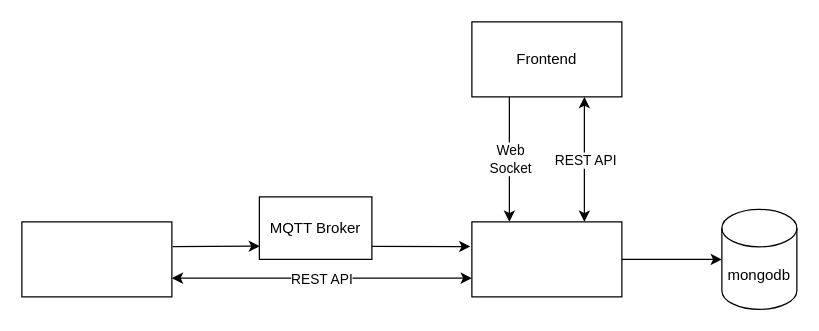
Image size: 819x331. Some labels were removed from this diagram. Here are the shapes that lost their labels. From the top down, the box of each, then its label:
(21, 221, 172, 297): ESP32
(471, 221, 622, 297): Backend
